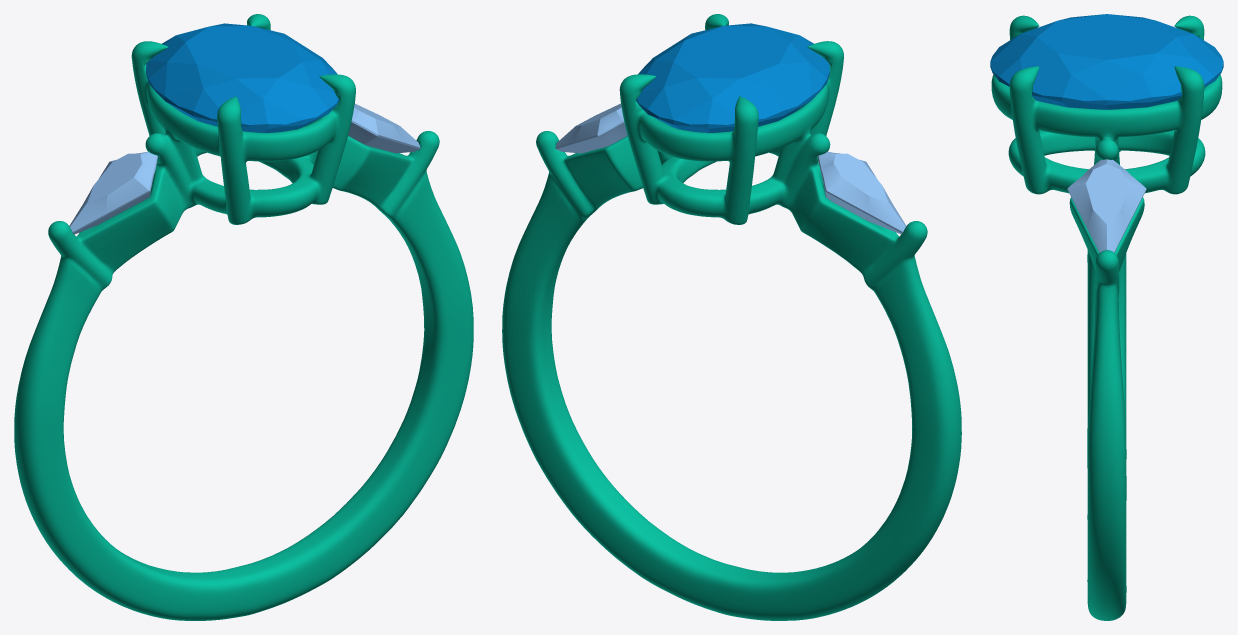
The model's file is BE1D717_OV_200ct_RENDER.glb.
The picture shows the model from 3 angles, left to right: view 1: azimuth 30°, elevation 25°; view 2: azimuth 150°, elevation 25°; view 3: azimuth 270°, elevation 25°; orthographic projection.
Parts seen in each view (by area): view 1: Metal 01, CS_Diamond_Oval, Diamond_Marquise_Side.001, Diamond_Marquise_Side; view 2: Metal 01, CS_Diamond_Oval, Diamond_Marquise_Side.001, Diamond_Marquise_Side; view 3: Metal 01, CS_Diamond_Oval, Diamond_Marquise_Side.
Part boxes in pixels (x1,y1,x2,y2): Metal 01: [14, 14, 473, 620]; CS_Diamond_Oval: [146, 23, 339, 133]; Diamond_Marquise_Side.001: [69, 151, 157, 234]; Diamond_Marquise_Side: [348, 103, 420, 153]; Metal 01: [502, 14, 961, 620]; CS_Diamond_Oval: [636, 23, 829, 132]; Diamond_Marquise_Side.001: [817, 151, 906, 234]; Diamond_Marquise_Side: [555, 103, 627, 153]; Metal 01: [991, 15, 1222, 620]; CS_Diamond_Oval: [990, 14, 1223, 109]; Diamond_Marquise_Side: [1067, 159, 1146, 252].
Size of the model in its own units: 20.09 by 23.79 by 9.
